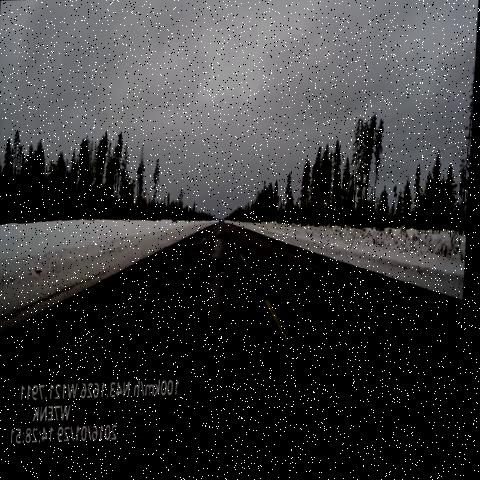pothole: (185, 249, 204, 273), (215, 263, 233, 285), (176, 262, 192, 285), (215, 228, 231, 246), (216, 252, 232, 269), (197, 239, 212, 255)
